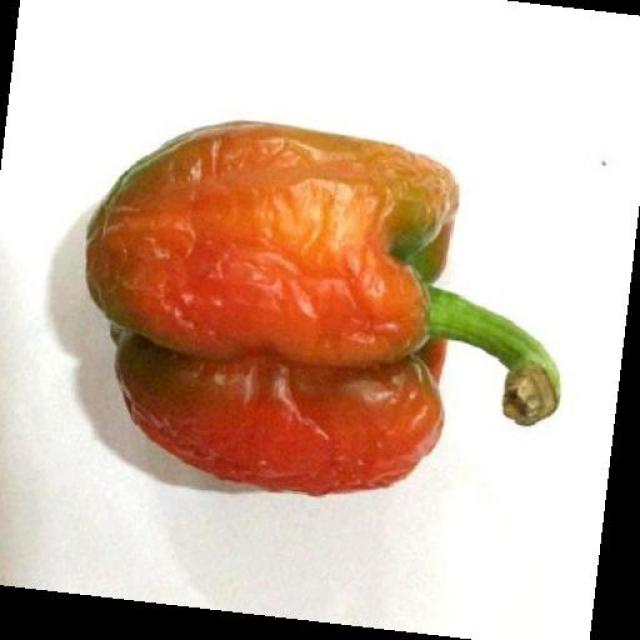Stale_Capsicum: (91, 106, 564, 574)
